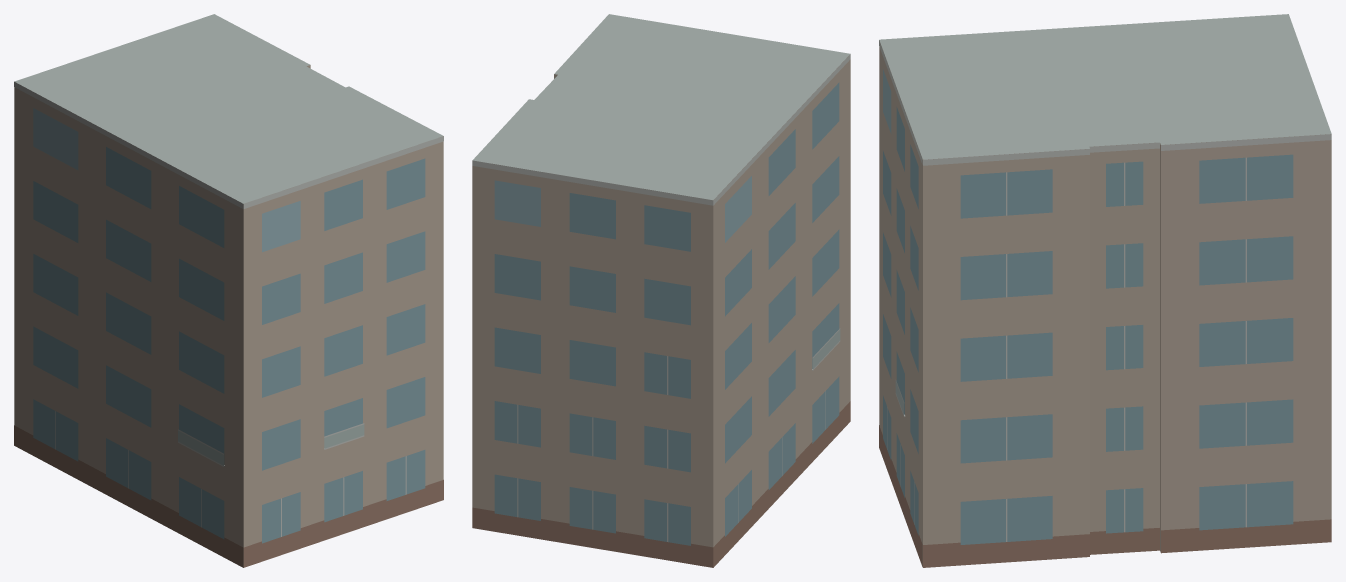
Rendered from survey-upis-32614609.glb.
3 renders of one model, left to right at view 1: azimuth 30°, elevation 25°; view 2: azimuth 150°, elevation 25°; view 3: azimuth 270°, elevation 25°, orthographic. The views are drawn at different scales.
Parts seen in each view (by area): view 1: survey-upis-32614609.tmp; view 2: survey-upis-32614609.tmp; view 3: survey-upis-32614609.tmp.
Boxes of the visible parts, x1,y1,x2,y2 form: survey-upis-32614609.tmp: (14, 14, 443, 567); survey-upis-32614609.tmp: (472, 14, 850, 567); survey-upis-32614609.tmp: (879, 14, 1331, 567).
Size of the model in its own units: 12.65 by 16.5 by 16.59.
